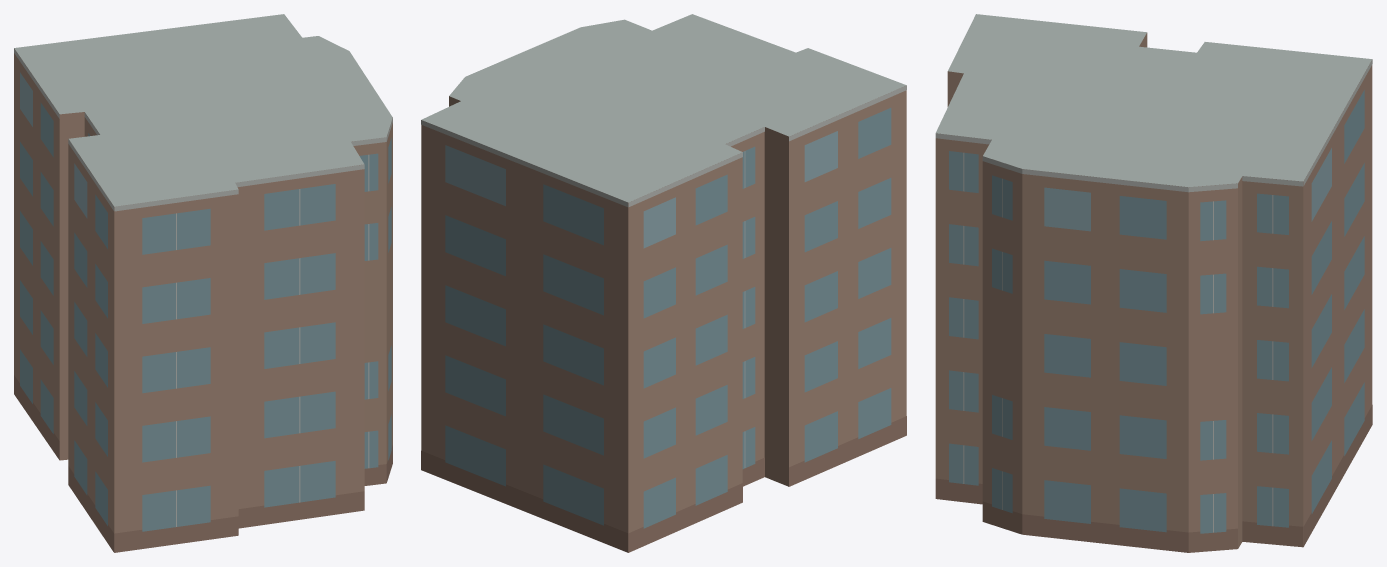
Rendered from survey-upis-32506254.glb.
The picture shows the model from 3 angles, left to right: view 1: azimuth 30°, elevation 25°; view 2: azimuth 150°, elevation 25°; view 3: azimuth 270°, elevation 25°; orthographic projection. The views are drawn at different scales.
Visible parts, largest first — view 1: survey-upis-32506254.tmp; view 2: survey-upis-32506254.tmp; view 3: survey-upis-32506254.tmp.
Boxes of the visible parts, x1,y1,x2,y2 form: survey-upis-32506254.tmp: [14, 14, 392, 552]; survey-upis-32506254.tmp: [421, 14, 906, 552]; survey-upis-32506254.tmp: [935, 14, 1372, 552].
Bounding box in the file's own units: 17.95 × 17.67 × 19.14.
